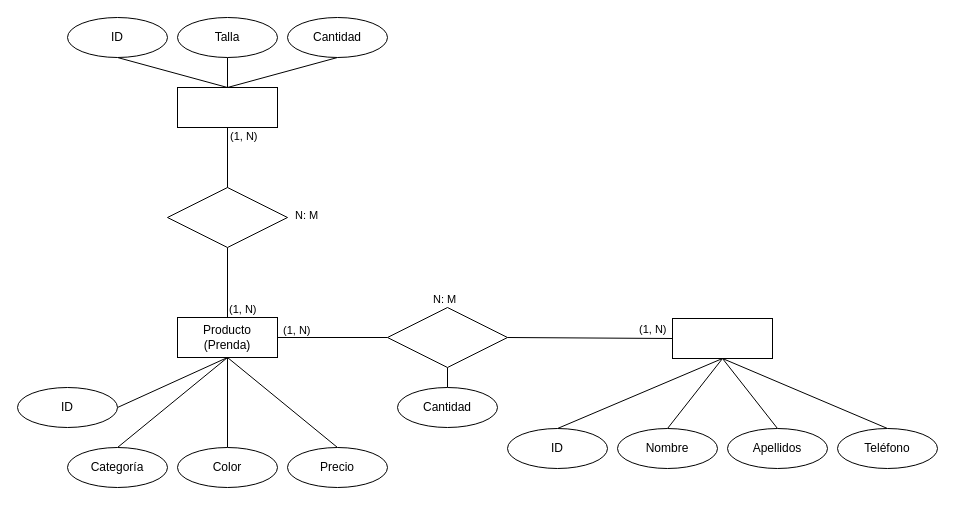
The diagram is 955 pixels wide and 505 high, and some of its shapes have lost their labels. The centre of each missing label's shape, as x and y in pixels:
"Cliente" goes at point (722, 338).
"Compra" goes at point (447, 337).
"Inventario" goes at point (227, 107).
"Tiene" goes at point (227, 217).
